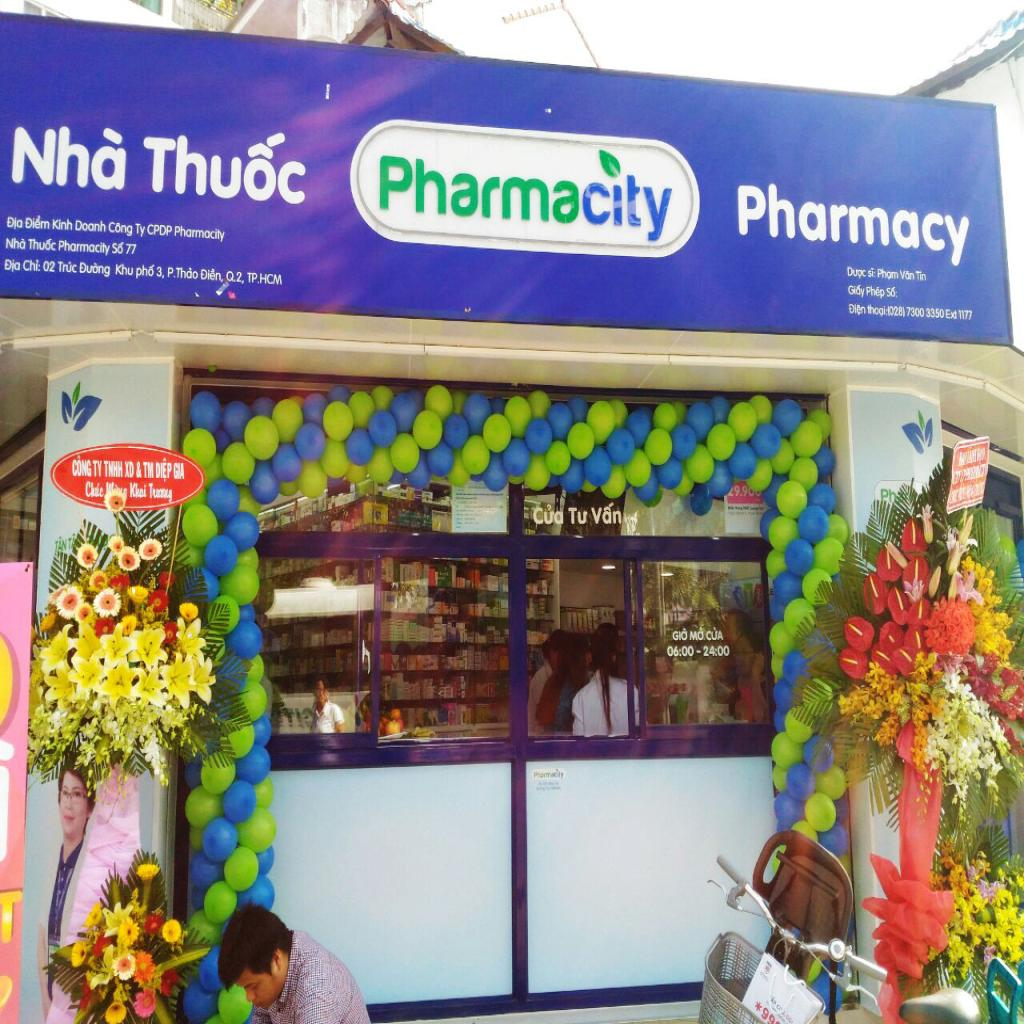text: (378, 128, 674, 245), (732, 181, 974, 271), (142, 121, 308, 210), (10, 121, 128, 196), (0, 886, 23, 952), (590, 498, 624, 530), (174, 225, 228, 245), (530, 502, 565, 532), (888, 303, 946, 321), (78, 259, 112, 282), (59, 241, 112, 255), (148, 482, 176, 508), (246, 270, 284, 288), (166, 264, 200, 282), (154, 454, 172, 486), (566, 503, 590, 527), (70, 454, 92, 476), (75, 220, 108, 234), (83, 479, 105, 500), (665, 646, 696, 660), (28, 238, 58, 252), (531, 768, 566, 780), (24, 216, 50, 232), (108, 222, 134, 238), (200, 269, 225, 285), (22, 256, 44, 274), (127, 481, 149, 499), (148, 223, 174, 238), (4, 258, 22, 279), (136, 264, 157, 282), (103, 460, 125, 477), (883, 284, 902, 303), (846, 282, 866, 300), (866, 303, 890, 318), (670, 625, 690, 643), (115, 262, 136, 278), (173, 461, 187, 485), (58, 260, 78, 276), (225, 270, 246, 285), (51, 216, 73, 230), (878, 266, 900, 280), (702, 647, 730, 658), (688, 626, 706, 643), (706, 626, 724, 643), (5, 236, 26, 250), (866, 284, 886, 298), (6, 214, 23, 230), (958, 305, 974, 322), (846, 303, 866, 316), (846, 266, 867, 278), (124, 460, 136, 480), (899, 270, 916, 284), (946, 304, 959, 322), (91, 458, 104, 476), (156, 264, 166, 285), (142, 461, 154, 478), (111, 241, 125, 255), (42, 260, 56, 274), (866, 266, 878, 282), (915, 270, 929, 283), (126, 242, 138, 257), (136, 223, 146, 239), (136, 460, 142, 478)
